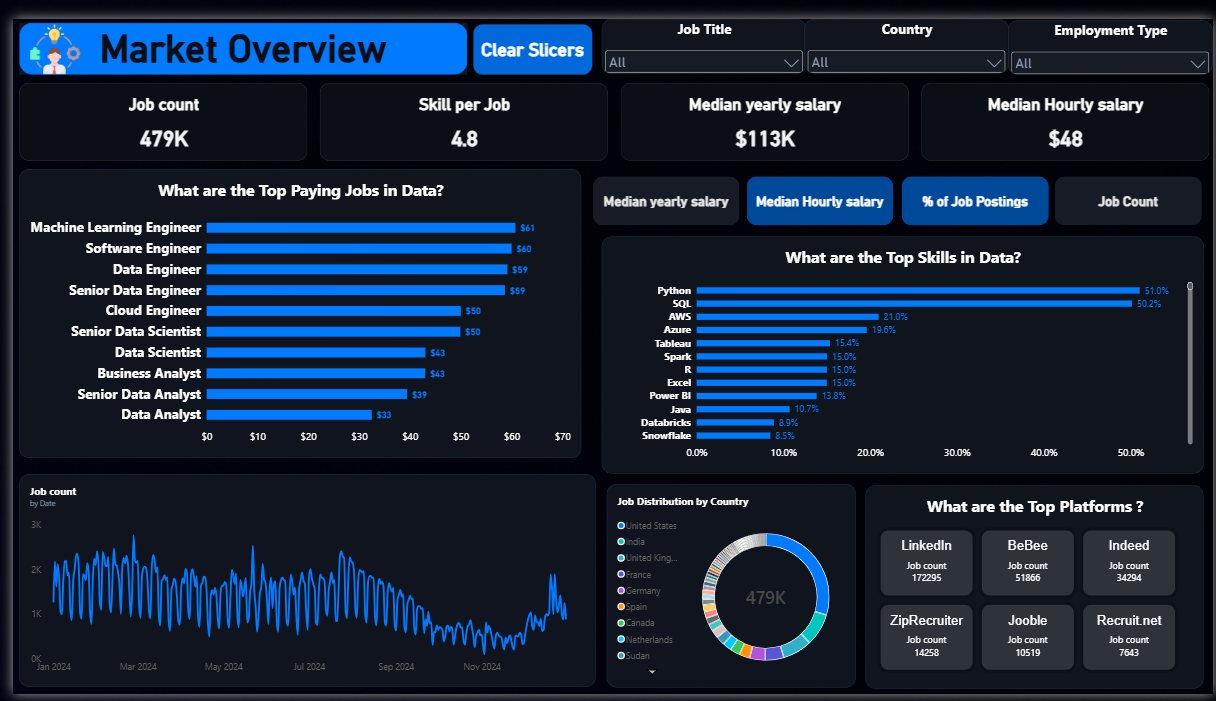

Layout of this report page (visuals, bound fields, positions):
{"tool":"powerbi","page":{"name":"Dashboard","canvas":[1280,720],"ordinal":1},"visuals":[{"type":"shape","box":[0,378.8,82.5,86.2],"z":0},{"type":"shape","box":[82.9,0,1197.1,720],"z":1000},{"type":"shape","box":[0,175.4,82.6,85.5],"z":2000},{"type":"image","box":[8.6,185.7,66.4,66.4],"z":3000},{"type":"pivotTable","fields":{"Rows":["job_postings_flat.job_title_short","job_postings_flat.job_posted_date.Variation.Date Hierarchy.Quarter"],"Values":["CountNonNull(job_postings_flat.job_title_short)","Median(job_postings_flat.salary_year_avg)","Median(job_postings_flat.salary_hour_avg)","SparklineData(Median(job_postings_flat.salary_year_avg)_[job_postings_flat.job_posted_date.Variation.Date Hierarchy.Mont"]},"box":[122.5,401.2,638.8,300],"z":4000},{"type":"image","box":[0,385,80,76.2],"z":5000},{"type":"lineChart","title":"Job Trending in 2024","fields":{"Category":["job_postings_flat.job_posted_date.Variation.Date Hierarchy.Year","job_postings_flat.job_posted_date.Variation.Date Hierarchy.Quarter","job_postings_flat.job_posted_date.Variation.Date Hierarchy.Month","job_postings_flat.job_posted_date.Variation.Date Hierarchy.Day"],"Y":["CountNonNull(job_postings_flat.job_title_short)"]},"box":[122.5,145,497.5,243.8],"z":6000},{"type":"cardVisual","fields":{"Data":["CountNonNull(job_postings_flat.job_title_short)"]},"box":[111.2,23.8,248.8,121.2],"z":7000},{"type":"cardVisual","fields":{"Data":["job_postings_flat.job rating"]},"box":[360,24.3,292.9,121.4],"z":8000},{"type":"cardVisual","fields":{"Data":["Median(job_postings_flat.salary_year_avg)","Median(job_postings_flat.salary_hour_avg)"]},"box":[652.5,25,416.2,121.2],"z":9000},{"type":"scatterChart","title":"Median of Yearly Salary Vs. Median of Hourly Salary","fields":{"Category":["job_postings_flat.job_title_short"],"X":["Median(job_postings_flat.salary_year_avg)"],"Y":["Median(job_postings_flat.salary_hour_avg)"]},"box":[632.5,146.2,621.2,242.5],"z":10000},{"type":"slicer","fields":{"Values":["job_postings_flat.job_title_short"]},"box":[773.8,430,480,68.8],"z":11000},{"type":"slicer","fields":{"Values":["job_postings_flat.job_posted_date"]},"box":[774.3,508.6,480,111.2],"z":12000},{"type":"actionButton","box":[875,620,276.2,81.2],"z":13000},{"type":"shape","box":[933.8,391.2,160,33.8],"z":14000},{"type":"image","box":[943.8,390,36.2,37.5],"z":15000},{"type":"textbox","box":[943.8,391.2,138.8,35],"z":16000},{"type":"actionButton","box":[1068.8,45.2,134.5,80.7],"z":17000}]}

Visuals, with their boxes in screenshot pixels (x1, y1, x2, y2), scaled from the page's 1280x720 canvas onto the 1216x701 screenshot:
shape: [0, 369, 78, 453]
shape: [79, 0, 1215, 700]
shape: [0, 171, 78, 254]
image: [8, 181, 71, 245]
pivotTable - job_postings_flat.job_title_short x job_postings_flat.job_posted_date.Variation.Date Hierarchy.Quarter: [116, 391, 723, 683]
image: [0, 375, 76, 449]
"Job Trending in 2024" lineChart: [116, 141, 589, 379]
cardVisual - CountNonNull(job_postings_flat.job_title_short): [106, 23, 342, 141]
cardVisual - job_postings_flat.job rating: [342, 24, 620, 142]
cardVisual - Median(job_postings_flat.salary_year_avg) x Median(job_postings_flat.salary_hour_avg): [620, 24, 1015, 142]
"Median of Yearly Salary Vs. Median of Hourly Salary" scatterChart: [601, 142, 1191, 378]
slicer - job_postings_flat.job_title_short: [735, 419, 1191, 486]
slicer - job_postings_flat.job_posted_date: [736, 495, 1192, 603]
actionButton: [831, 604, 1094, 683]
shape: [887, 381, 1039, 414]
image: [897, 380, 931, 416]
textbox: [897, 381, 1028, 415]
actionButton: [1015, 44, 1143, 123]
